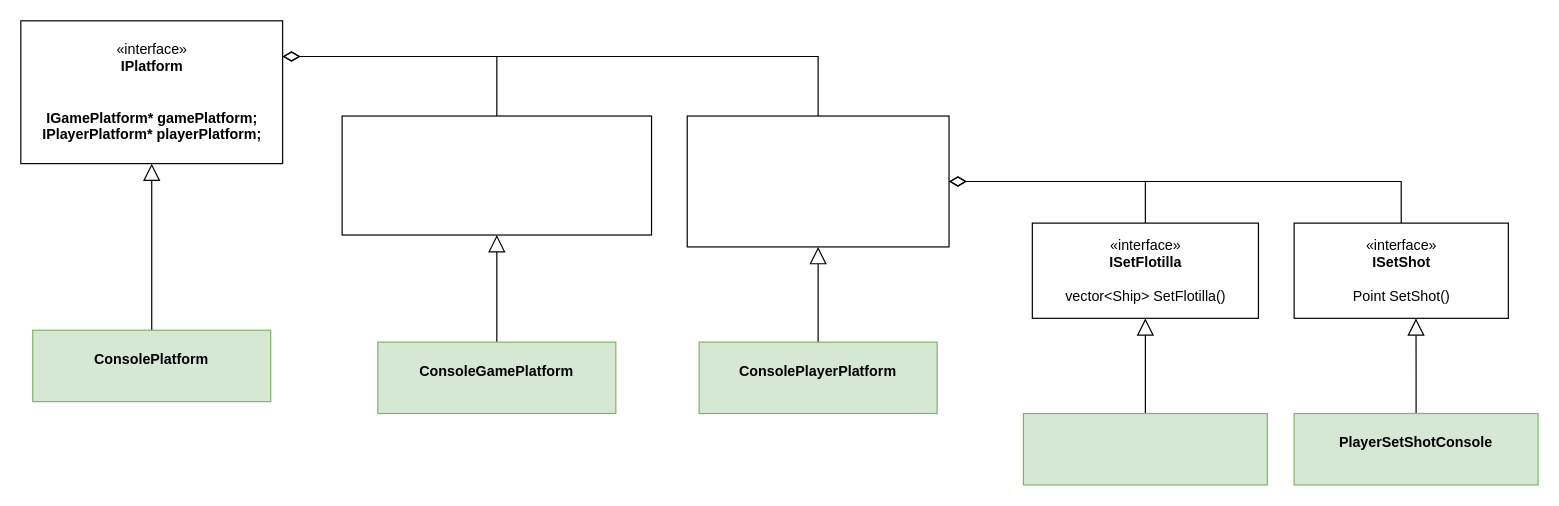
This 1559x506 diagram has some shape labels left out. Each missing label, with the box of its shape:
PlayerSetFlotillaConsole: (1022, 412, 1267, 485)
«interface» IGamePlatform Setup(Player* player) View(vector<Player*>& players): (341, 115, 652, 235)
«interface» IPlayerPlatform ISetFlotilla* commander; ISetShot* shooter;: (686, 115, 949, 247)
